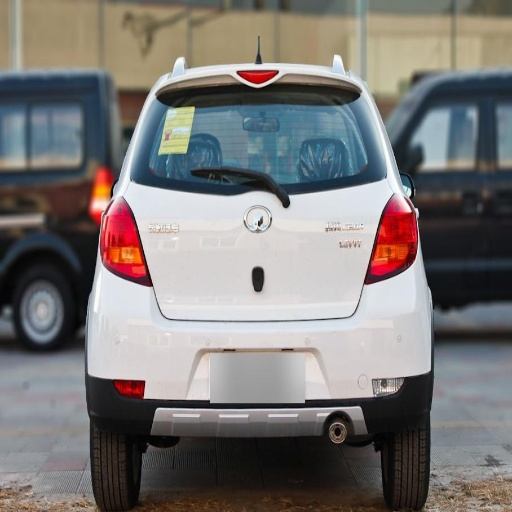back_bumper: (87, 263, 435, 437)
tailgate: (121, 190, 241, 318), (297, 175, 393, 317)
trunk: (127, 185, 357, 320), (2, 197, 57, 265)
